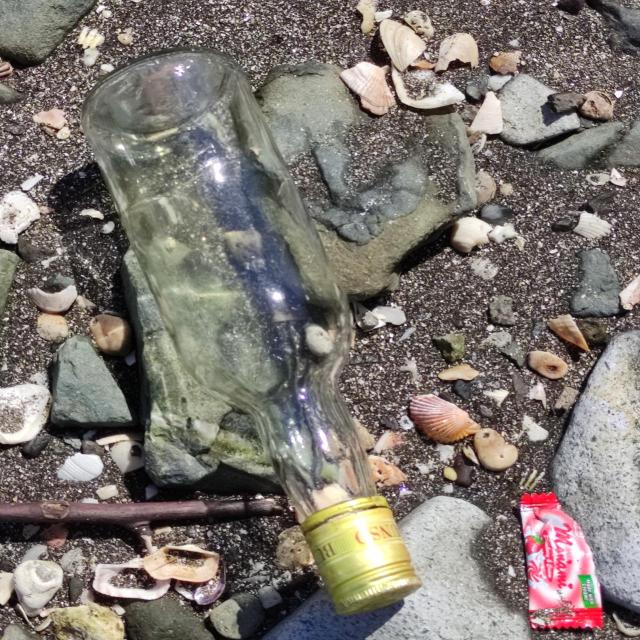glass_waste: (80, 48, 424, 618)
plastic_waste: (522, 494, 608, 633)
